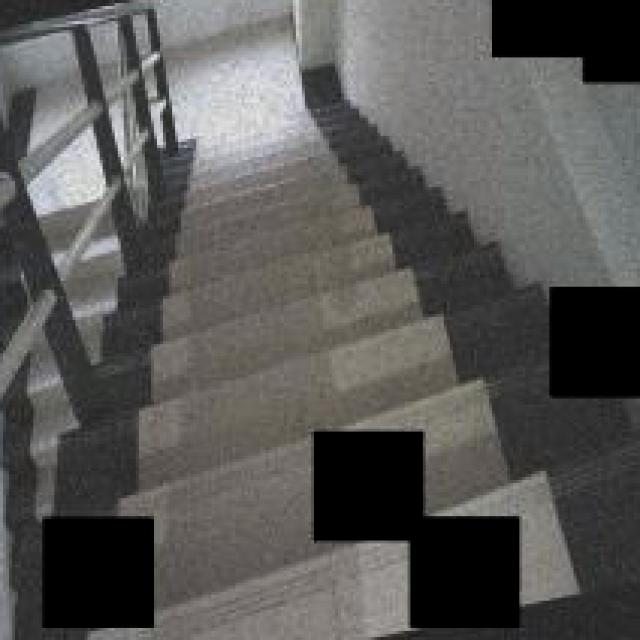downstair: (74, 89, 530, 415)
